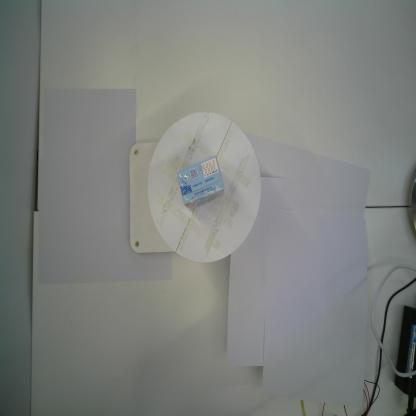Milk: (177, 156, 225, 210)
